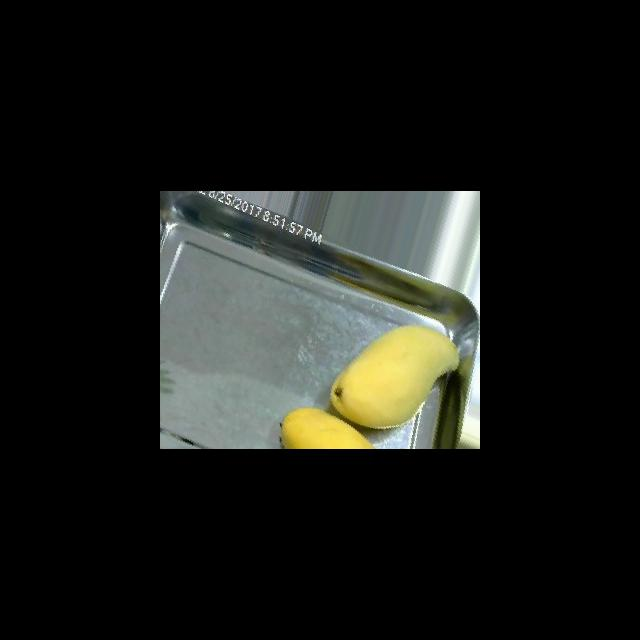Mango: (329, 323, 459, 429), (278, 406, 382, 448)
